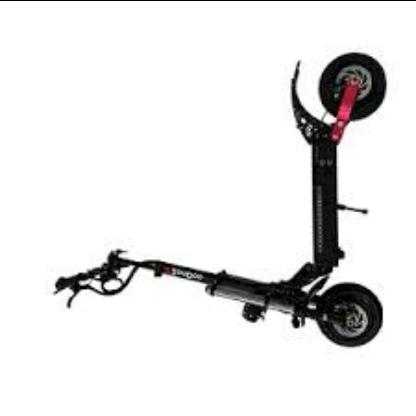bike: (47, 54, 391, 352), (53, 249, 384, 348)
